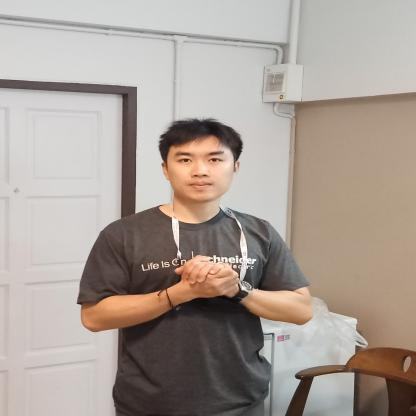Grieve: (155, 236, 256, 321)
